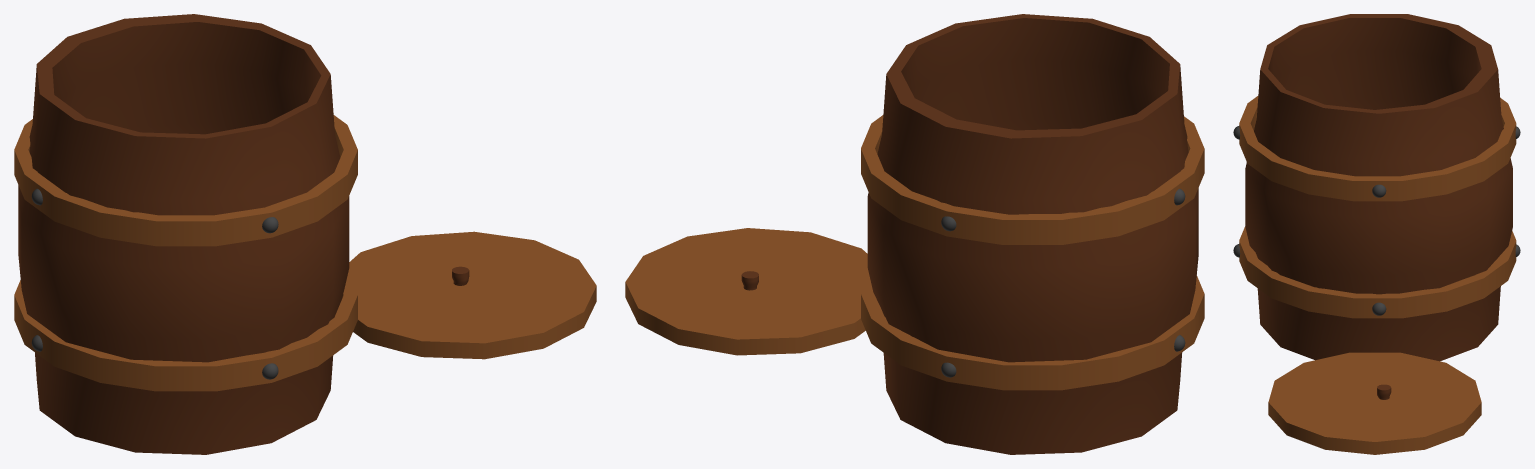
Rendered from beczka2 export to Unity.fbx.
3 renders of one model, left to right at view 1: azimuth 30°, elevation 25°; view 2: azimuth 150°, elevation 25°; view 3: azimuth 270°, elevation 25°, orthographic. The views are drawn at different scales.
Parts seen in each view (by area): view 1: Cylinder005, Cylinder006, Tube003, Tube004; view 2: Cylinder005, Cylinder006, Tube003, Tube004; view 3: Cylinder005, Cylinder006, Tube003, Tube004.
Boxes of the visible parts, left/top/right/bottom form: Cylinder005: left=18, top=14, right=349, bottom=454; Cylinder006: left=348, top=231, right=596, bottom=359; Tube003: left=14, top=115, right=357, bottom=246; Tube004: left=14, top=272, right=357, bottom=391; Cylinder005: left=867, top=14, right=1198, bottom=454; Cylinder006: left=625, top=228, right=868, bottom=355; Tube003: left=861, top=115, right=1204, bottom=244; Tube004: left=861, top=274, right=1204, bottom=390; Cylinder005: left=1245, top=14, right=1512, bottom=361; Cylinder006: left=1268, top=352, right=1481, bottom=454; Tube003: left=1239, top=96, right=1516, bottom=201; Tube004: left=1239, top=226, right=1516, bottom=318.
Size of the model in its own units: 22.65 by 12.6 by 12.84.
